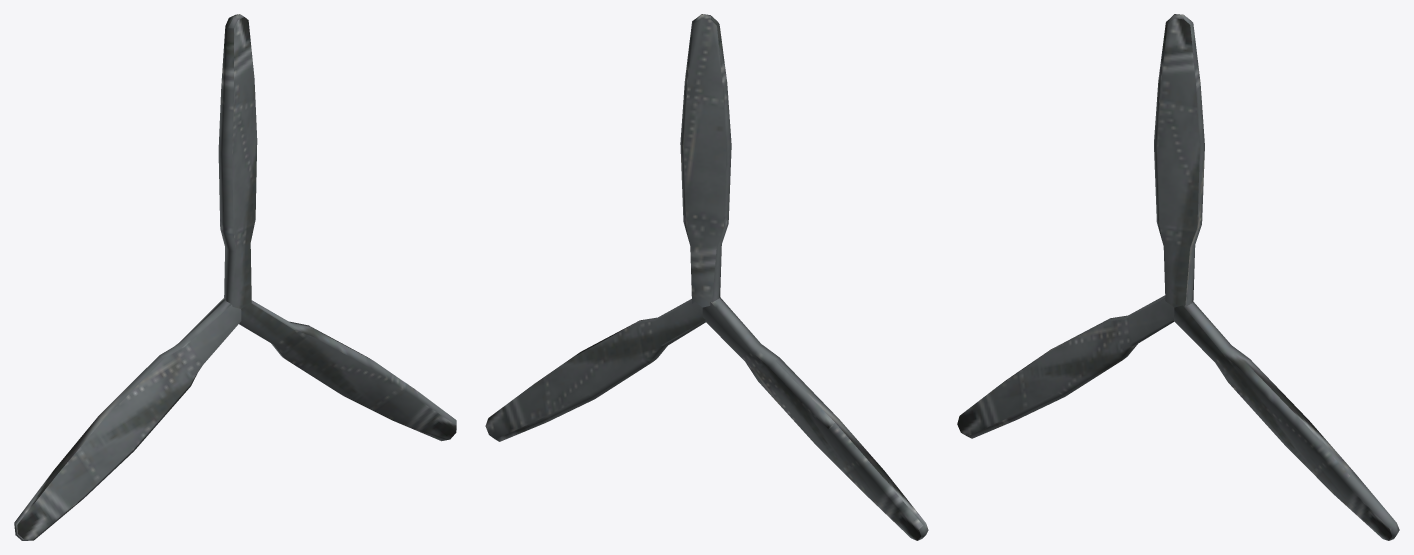
The model's file is plane_blades_off.dae.
3 renders of one model, left to right at view 1: azimuth 30°, elevation 25°; view 2: azimuth 150°, elevation 25°; view 3: azimuth 330°, elevation 25°, orthographic.
Parts seen in each view (by area): view 1: plane_blades_off; view 2: plane_blades_off; view 3: plane_blades_off.
Part boxes in pixels (left/top/right/bottom): plane_blades_off: left=14, top=14, right=456, bottom=540; plane_blades_off: left=485, top=14, right=928, bottom=540; plane_blades_off: left=957, top=14, right=1399, bottom=540.
Size of the model in its own units: 222 by 229 by 14.39.
